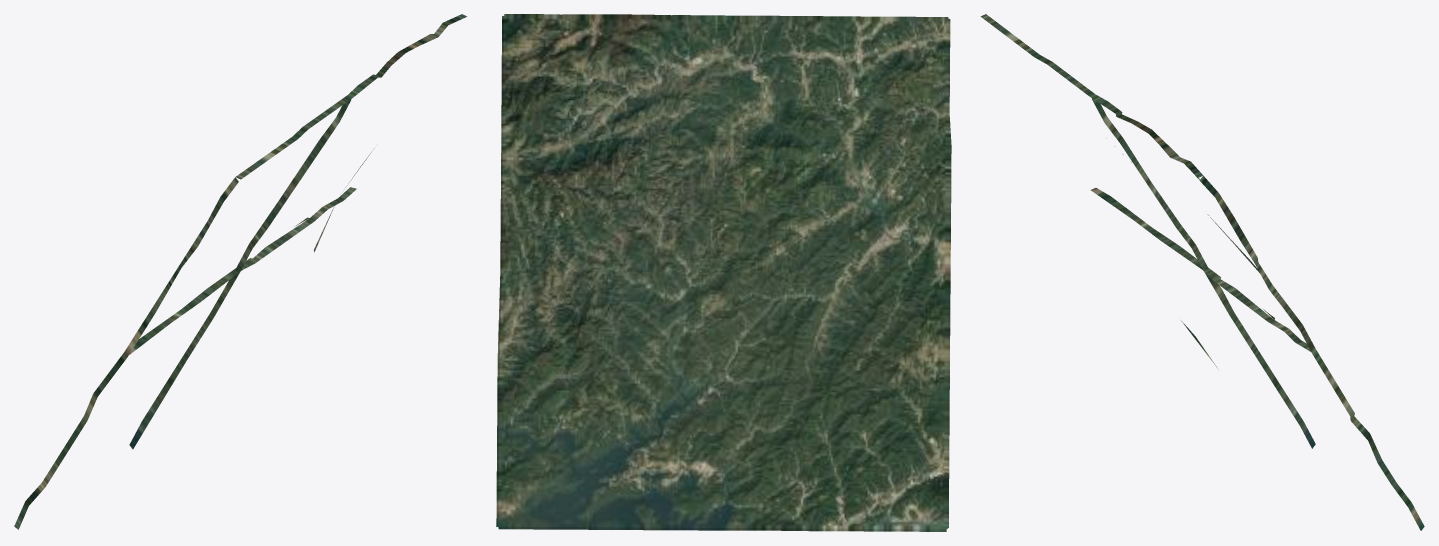
3 views of the same model, side by side, from view 1: azimuth 30°, elevation 25°; view 2: azimuth 150°, elevation 25°; view 3: azimuth 270°, elevation 25° (orthographic).
Bounding box in the file's own units: 79045 × 69264 × 68147.
Materials: 1 (1 with a texture image).
